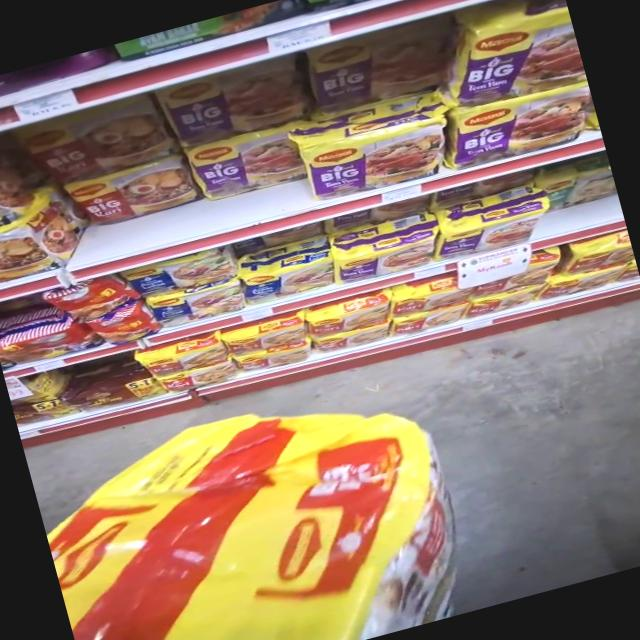Maggi: (0, 159, 576, 377), (32, 379, 474, 640), (104, 226, 640, 419), (15, 24, 454, 194), (310, 101, 454, 202), (451, 16, 587, 112), (61, 155, 203, 239), (452, 82, 590, 168), (192, 121, 306, 207)
